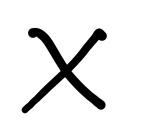mult: (19, 27, 104, 114)
